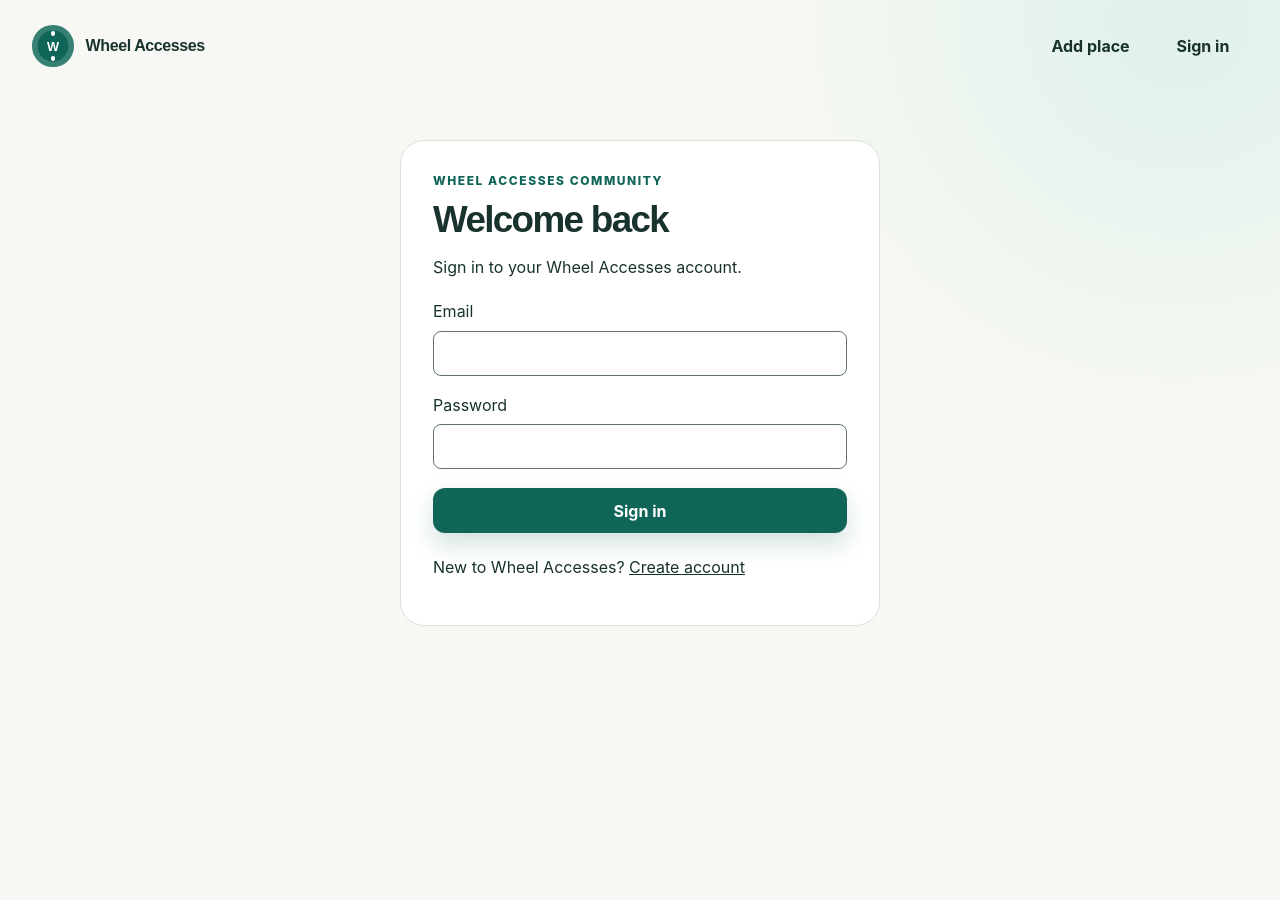
presents generic login failures and lets the user retry
This screenshot has width=1280, height=900.
Expected: the button "Sign in" is enabled, x1=433 y1=488 x2=847 y2=533
Type "visitor@example.test" into the field labelled "Email" at coordinates (640, 353), box x1=433 y1=331 x2=847 y2=376
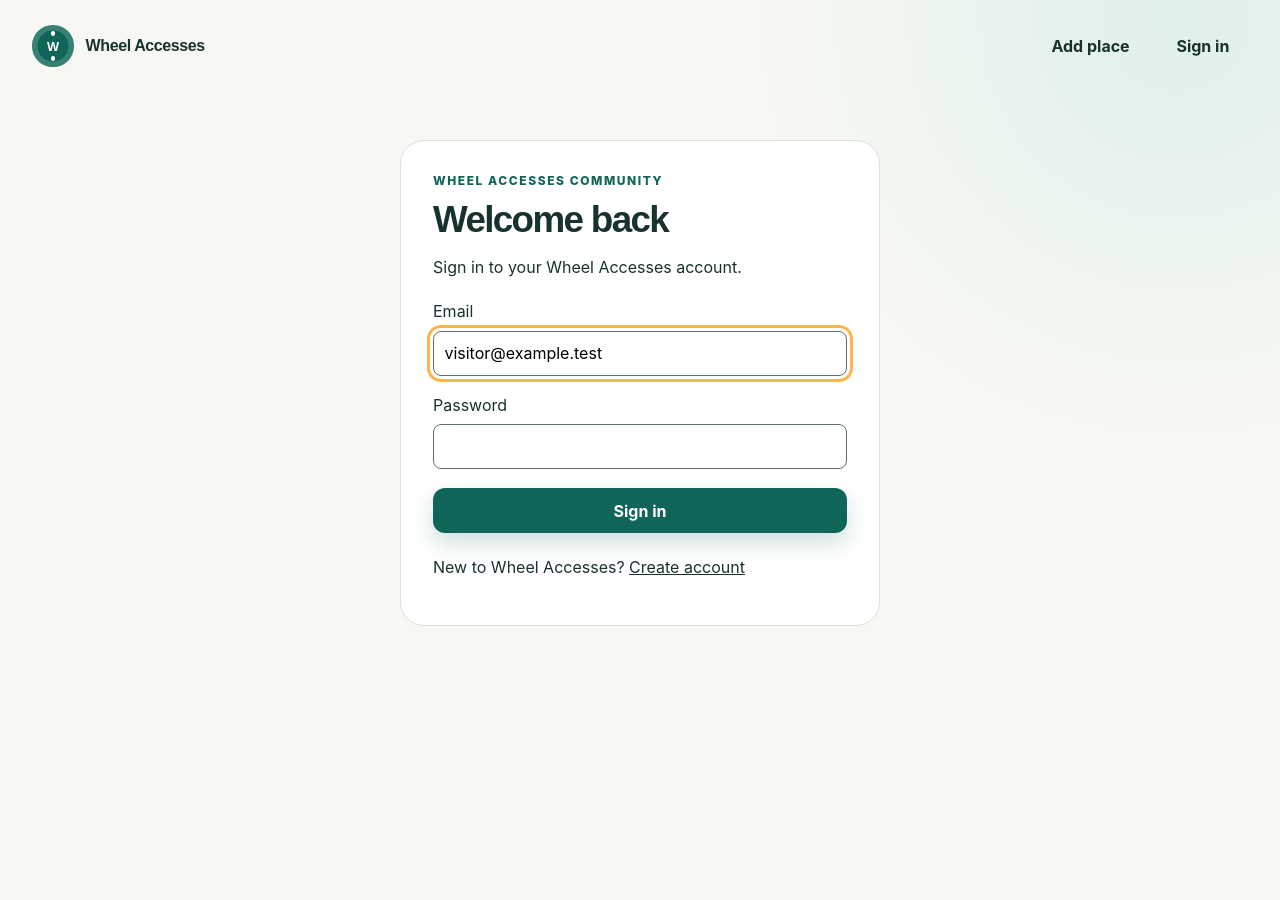
Type "wrong" into the password field labelled "Password" at coordinates (640, 447), box x1=433 y1=424 x2=847 y2=469
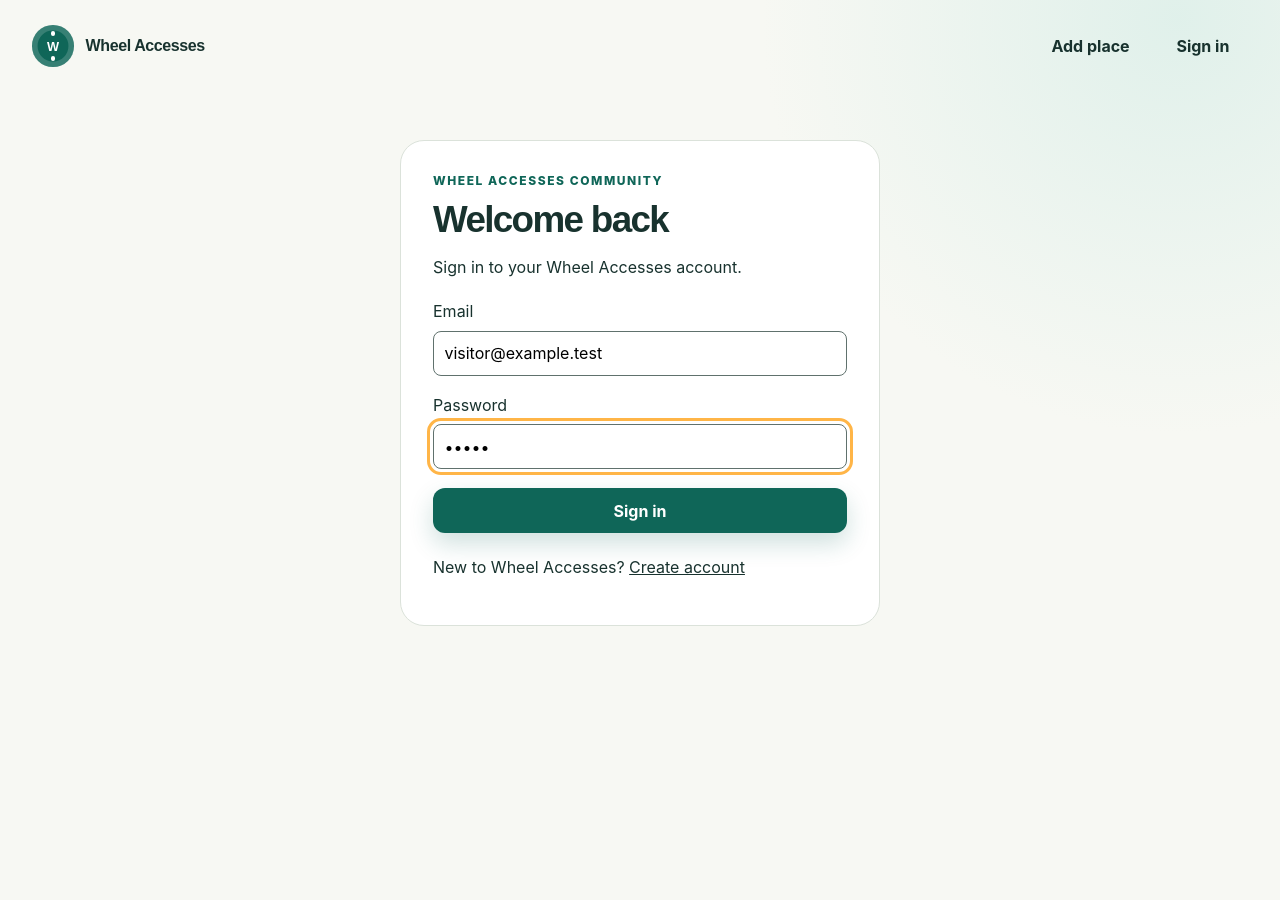
Click the button "Sign in" at coordinates (640, 511), box x1=433 y1=488 x2=847 y2=533
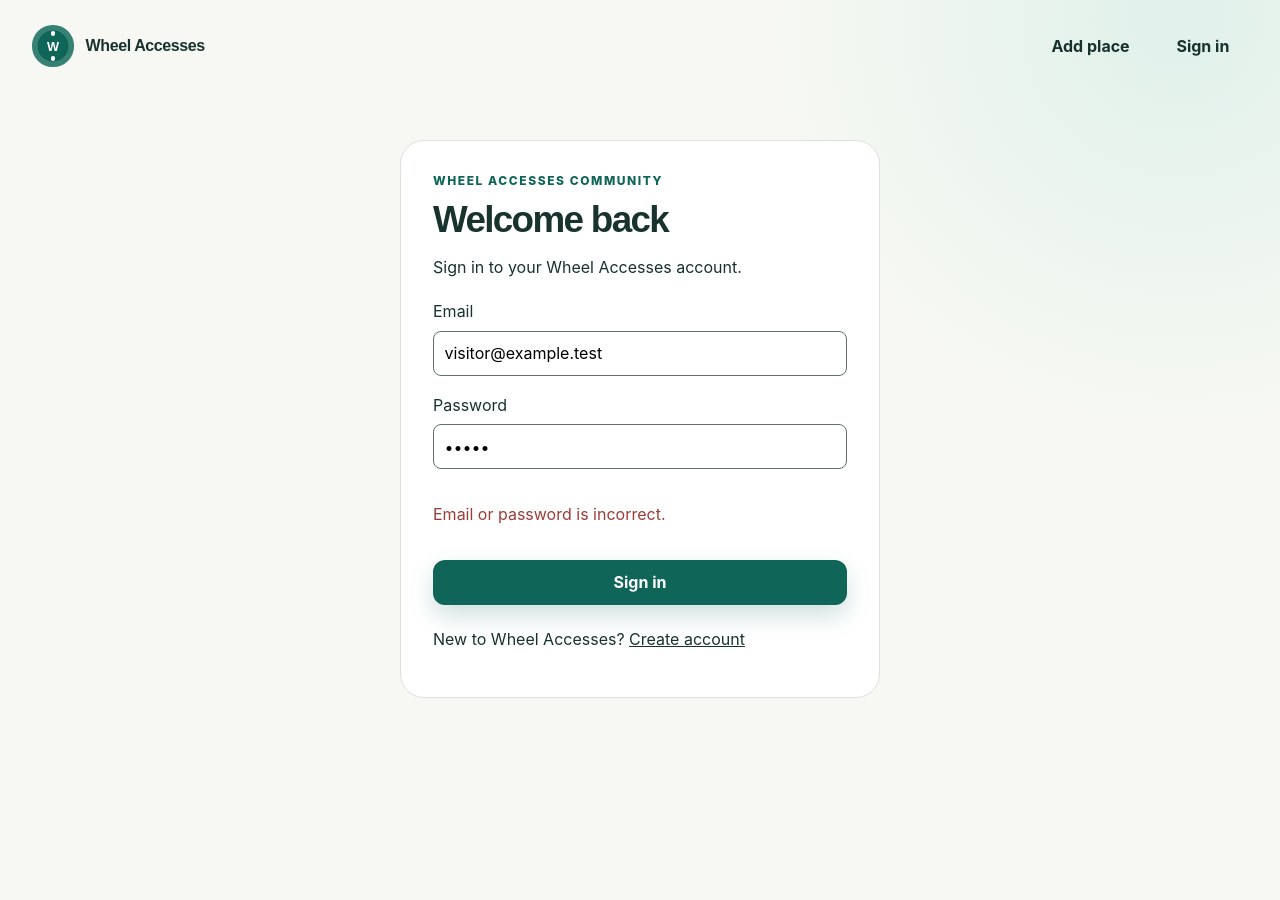
Expected: the button "Sign in" is enabled, x1=433 y1=560 x2=847 y2=604
Now the message reads "Email or password is incorrect.", box x1=433 y1=504 x2=666 y2=524
